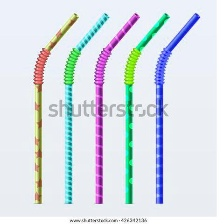drinking_straw: (150, 9, 208, 208), (89, 10, 142, 209), (30, 8, 81, 207)
